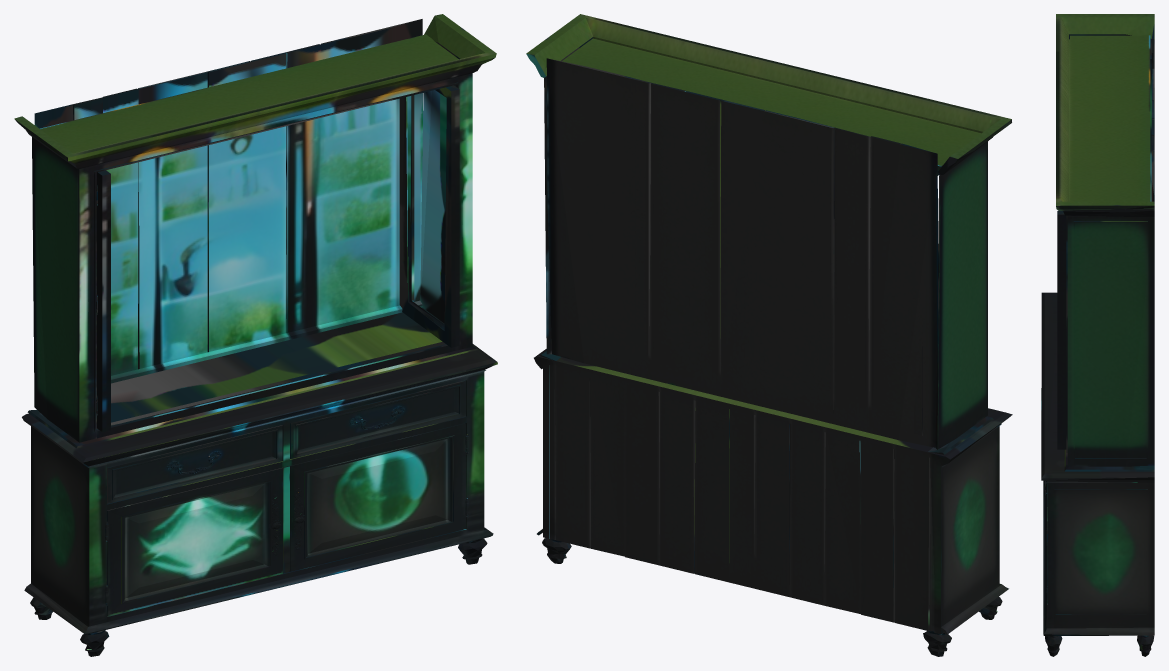
The model's file is edited_mesh.glb.
The picture shows the model from 3 angles, left to right: view 1: azimuth 30°, elevation 25°; view 2: azimuth 150°, elevation 25°; view 3: azimuth 270°, elevation 25°; orthographic projection. The views are drawn at different scales.
Visible parts, largest first — view 1: solid_001_wire; view 2: solid_001_wire; view 3: solid_001_wire.
Boxes of the visible parts, bbox=[...] form: solid_001_wire: bbox=[14, 14, 497, 656]; solid_001_wire: bbox=[526, 14, 1012, 656]; solid_001_wire: bbox=[1041, 14, 1154, 656].
Bounding box in the file's own units: 1.23 × 1.38 × 0.3083.
1 material, 1 textured.
